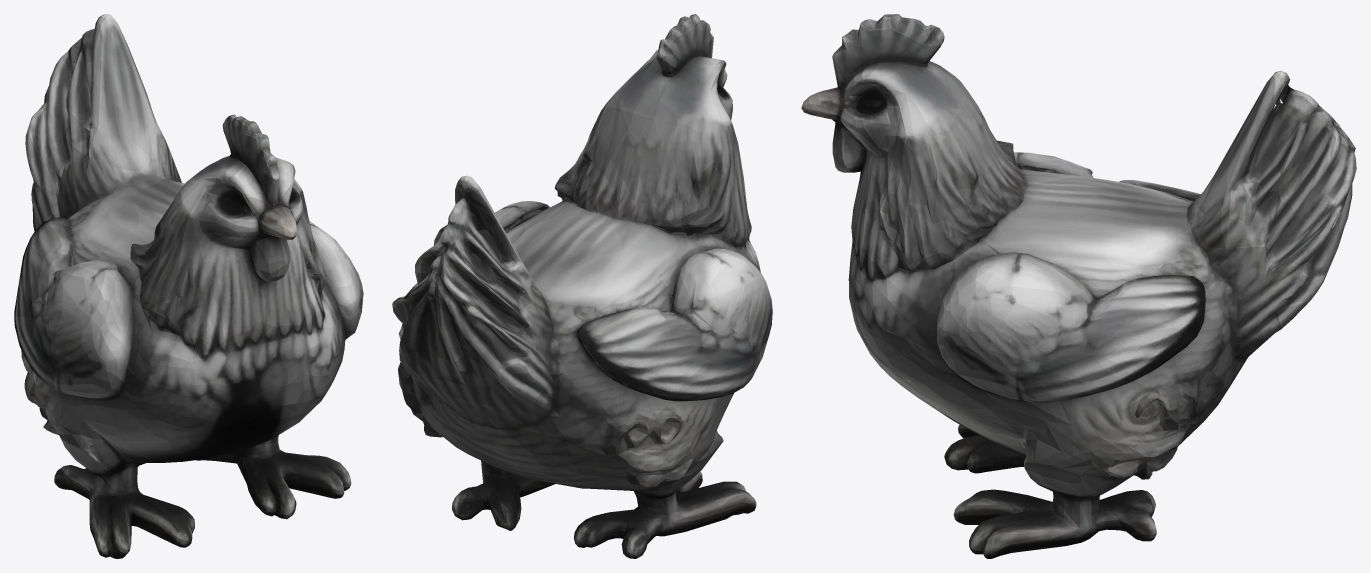
File: chicken.glb
3 renders of one model, left to right at view 1: azimuth 30°, elevation 25°; view 2: azimuth 150°, elevation 25°; view 3: azimuth 270°, elevation 25°, orthographic. The views are drawn at different scales.
Parts seen in each view (by area): view 1: world; view 2: world; view 3: world.
Boxes of the visible parts, box(x1,y1,x2,y2) form: world: box(14, 14, 363, 558); world: box(392, 14, 772, 558); world: box(801, 14, 1356, 558).
Bounding box in the file's own units: 0.6755 × 0.9425 × 0.9924.
Materials: 1 (1 with a texture image).
